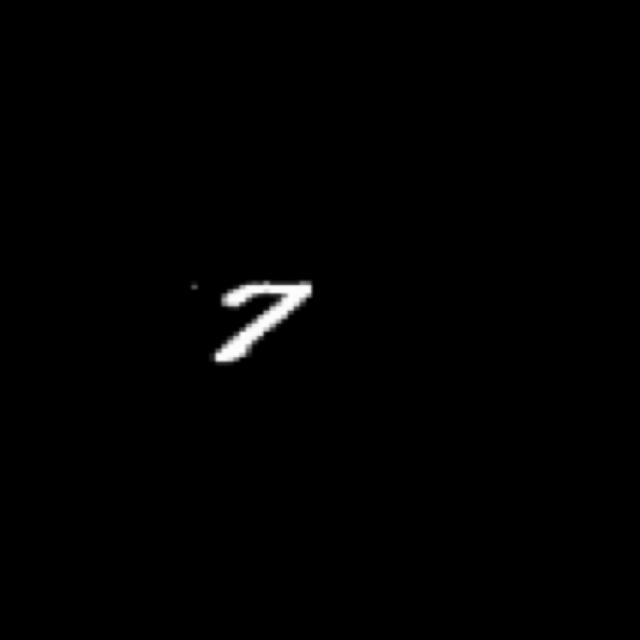seven -7-: (202, 277, 316, 373)
